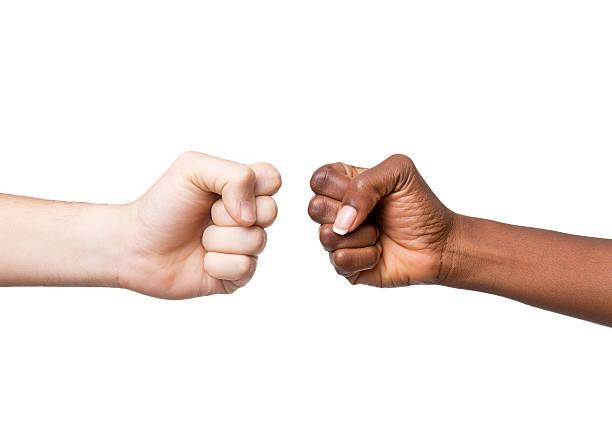rock: (132, 124, 282, 308), (304, 134, 458, 306)
